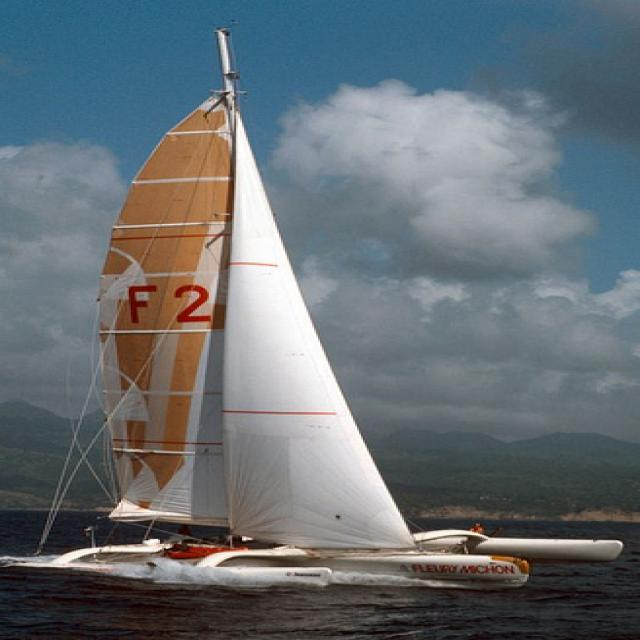Ship: (17, 37, 618, 595)
